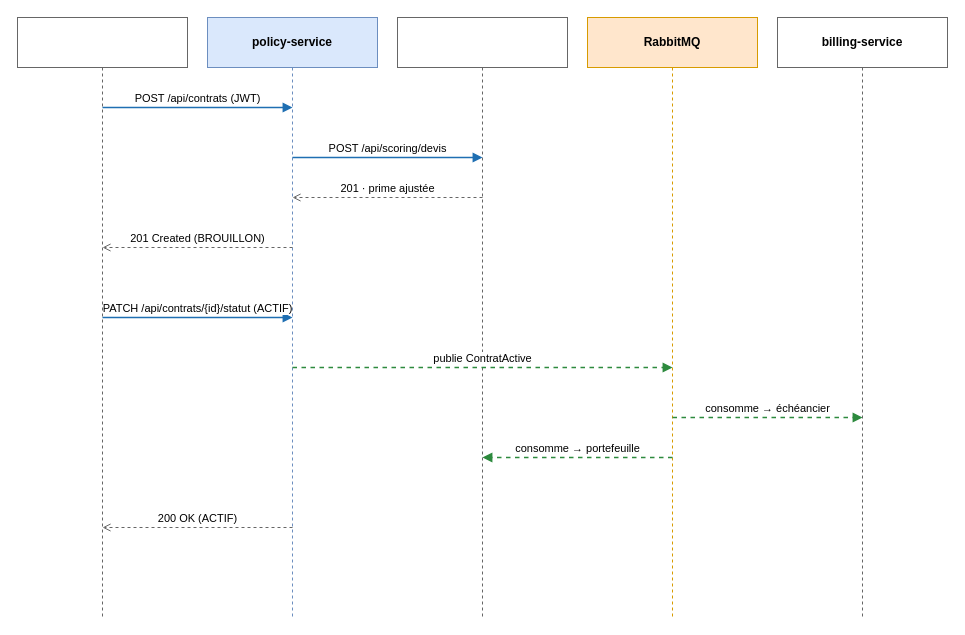
The diagram is 965 pixels wide and 635 high, and some of its shapes have lost their labels. Here are the shapes that lost their labels. From the top down, the box of each, then its label:
(16, 16, 188, 618): API Gateway
(396, 16, 568, 618): predictive-scoring
